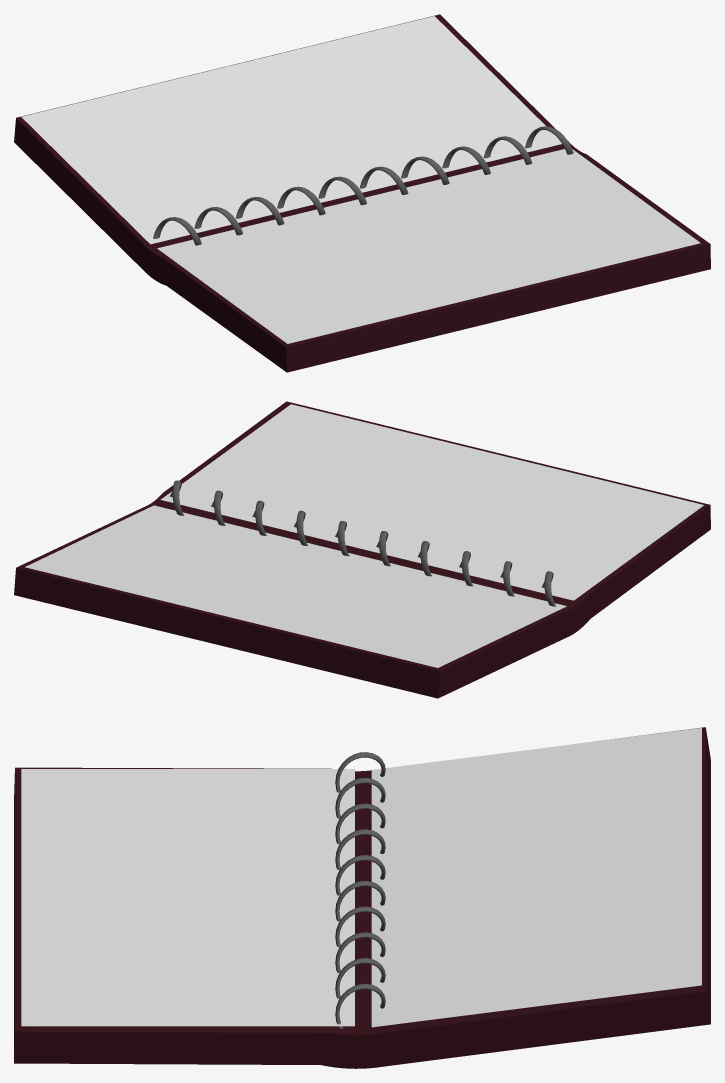
The model's file is ssss.fbx.
3 renders of one model, top to bottom at view 1: azimuth 30°, elevation 25°; view 2: azimuth 150°, elevation 25°; view 3: azimuth 270°, elevation 25°, orthographic. The views are drawn at different scales.
Parts seen in each view (by area): view 1: Plane.001, Plane, Cube.001, Spiral.001; view 2: Plane, Plane.001, Cube.001, Spiral.001; view 3: Plane, Plane.001, Cube.001, Spiral.001.
Part boxes in pixels (<box>): Plane.001: <box>21,16,561,244</box>; Plane: <box>157,149,700,343</box>; Cube.001: <box>14,14,710,372</box>; Spiral.001: <box>153,126,573,245</box>; Plane: <box>160,404,703,600</box>; Plane.001: <box>25,505,566,667</box>; Cube.001: <box>14,401,710,698</box>; Spiral.001: <box>170,480,556,606</box>; Plane: <box>21,769,354,1026</box>; Plane.001: <box>371,728,701,1027</box>; Cube.001: <box>14,727,710,1068</box>; Spiral.001: <box>335,752,385,1028</box>.
Bounding box in the file's own units: 580 × 80.85 × 646.
